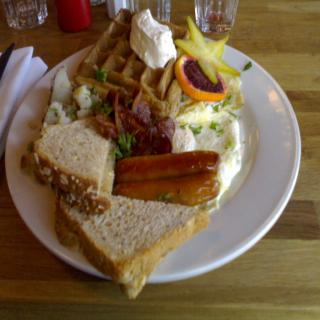Orange: (174, 54, 227, 102)
